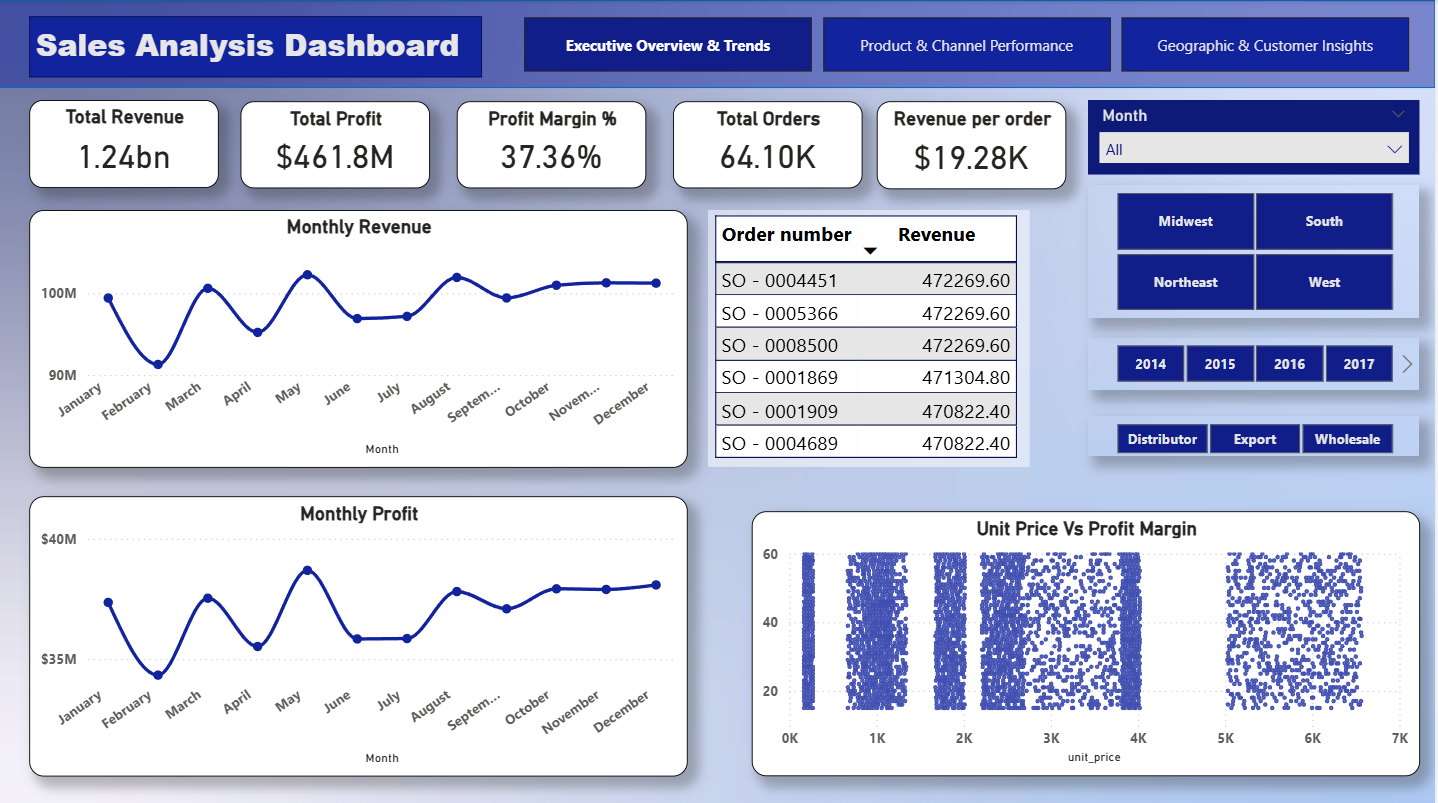

What the dashboard file says about the page in this screenshot:
{"tool":"powerbi","page":{"name":"Executive Overview & Trends ","canvas":[1280,720],"ordinal":0},"visuals":[{"type":"shape","box":[0,0,1280,78.4],"z":0},{"type":"pageNavigator","box":[468.1,15.7,790.2,48.3],"z":1000},{"type":"card","title":"Total Revenue","fields":{"Values":["Sum(Sales_data(EDA Exported).revenue)"]},"box":[27.7,89.3,168.9,78.4],"z":2000},{"type":"card","title":"Total Profit","fields":{"Values":["Sum(Sales_data(EDA Exported).profit)"]},"box":[216,90.5,168.9,77.2],"z":3000},{"type":"card","title":"Profit Margin %","fields":{"Values":["Sales_data(EDA Exported).Profit Margin"]},"box":[409,90.5,168.9,77.2],"z":4000},{"type":"card","title":"Total Orders","fields":{"Values":["CountNonNull(Sales_data(EDA Exported).order_number)"]},"box":[600.8,90.5,168.9,77.2],"z":5000},{"type":"card","title":"Revenue per order","fields":{"Values":["Sales_data(EDA Exported).Revenue per order"]},"box":[783,90.5,168.9,78.4],"z":6000},{"type":"lineChart","title":"Monthly Revenue","fields":{"Y":["Sum(Sales_data(EDA Exported).revenue)"],"Category":["Sales_data(EDA Exported).order_month.Variation.Date Hierarchy.Month"]},"box":[27.7,187,586.3,229.2],"z":7000},{"type":"lineChart","title":"Monthly Profit","fields":{"Category":["Sales_data(EDA Exported).order_month.Variation.Date Hierarchy.Month"],"Y":["Sum(Sales_data(EDA Exported).profit)"]},"box":[27.7,441.6,586.3,249.7],"z":8000},{"type":"scatterChart","title":"Unit Price Vs Profit Margin","fields":{"X":["Sales_data(EDA Exported).unit_price"],"Y":["Sales_data(EDA Exported).profit_margin_pct"]},"box":[671.5,454.9,595.2,235.6],"z":9000},{"type":"slicer","fields":{"Values":["Sales_data(EDA Exported).channel"]},"box":[971.1,370.5,295.6,35.4],"z":10000},{"type":"slicer","fields":{"Values":["Sales_data(EDA Exported).year"]},"box":[971.1,301,295.6,46.3],"z":11000},{"type":"slicer","fields":{"Values":["Sales_data(EDA Exported).us_region"]},"box":[971.1,164.8,295.6,118.5],"z":12000},{"type":"slicer","fields":{"Values":["Sales_data(EDA Exported).order_date.Variation.Date Hierarchy.Month"]},"box":[971.2,89.3,295.6,66.4],"z":13000},{"type":"textbox","box":[27.7,14.5,403,54.3],"z":14000},{"type":"tableEx","fields":{"Values":["Sales_data(EDA Exported).order_number","Sum(Sales_data(EDA Exported).revenue)"]},"box":[632,186.6,286,228.8],"z":15000}]}

Visuals, with their boxes in screenshot pixels (x1, y1, x2, y2), scaled from the page's 1280x720 canvas onto the 1438x803 screenshot:
shape: (0, 0, 1437, 87)
pageNavigator: (526, 18, 1414, 71)
"Total Revenue" card: (31, 100, 221, 187)
"Total Profit" card: (243, 101, 432, 187)
"Profit Margin %" card: (459, 101, 649, 187)
"Total Orders" card: (675, 101, 865, 187)
"Revenue per order" card: (880, 101, 1069, 188)
"Monthly Revenue" lineChart: (31, 209, 690, 464)
"Monthly Profit" lineChart: (31, 493, 690, 771)
"Unit Price Vs Profit Margin" scatterChart: (754, 507, 1423, 770)
slicer - Sales_data(EDA Exported).channel: (1091, 413, 1423, 453)
slicer - Sales_data(EDA Exported).year: (1091, 336, 1423, 387)
slicer - Sales_data(EDA Exported).us_region: (1091, 184, 1423, 316)
slicer - Sales_data(EDA Exported).order_date.Variation.Date Hierarchy.Month: (1091, 100, 1423, 174)
textbox: (31, 16, 484, 77)
tableEx - Sales_data(EDA Exported).order_number x Sum(Sales_data(EDA Exported).revenue): (710, 208, 1031, 463)
